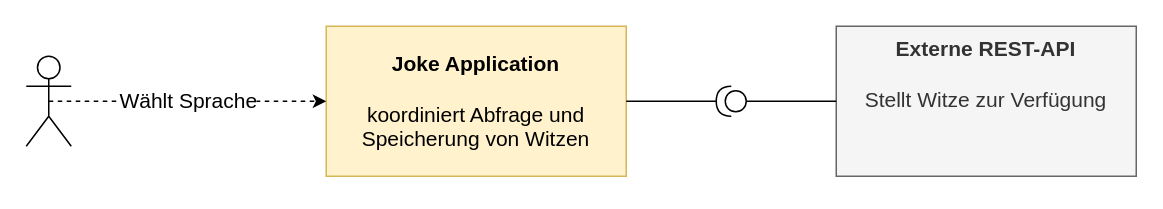
The diagram is 1163 pixels wide and 209 high, and some of its shapes have lost their labels. The centre of each missing label's shape, as x and y in pixels:
"REST-API" goes at (730,100).
"User" goes at (48,100).
